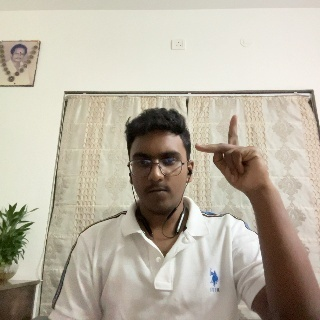Face: (127, 120, 191, 215)
Okay: (194, 108, 276, 216)
